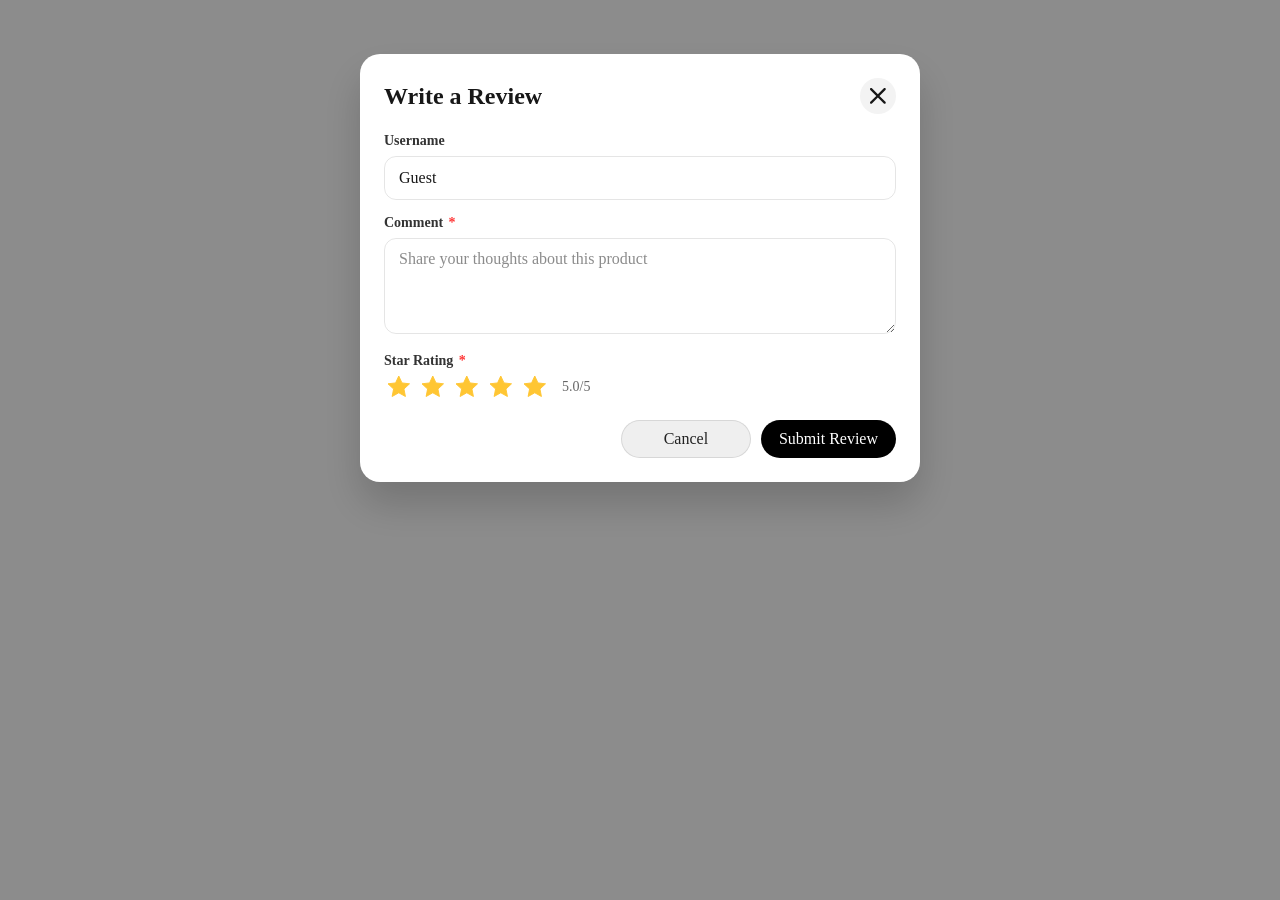
Scenario: WriteReviewModal › rating picker › should support half ratings
Click the button named "Set rating to 1 stars".
click(399, 387)  # box [384,376,414,398]
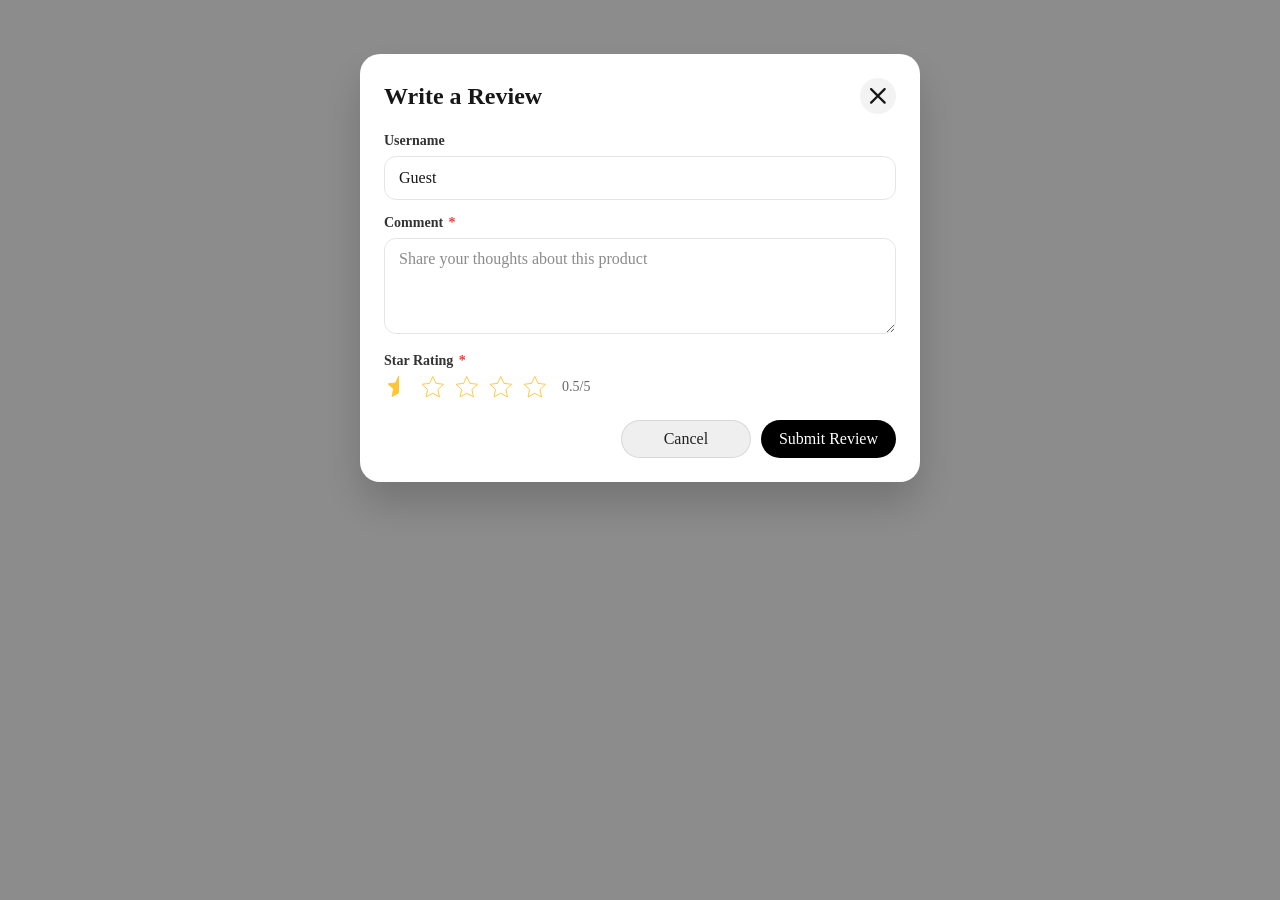
expect the text "0.5/5" is shown: met, box [562,380,590,394]
